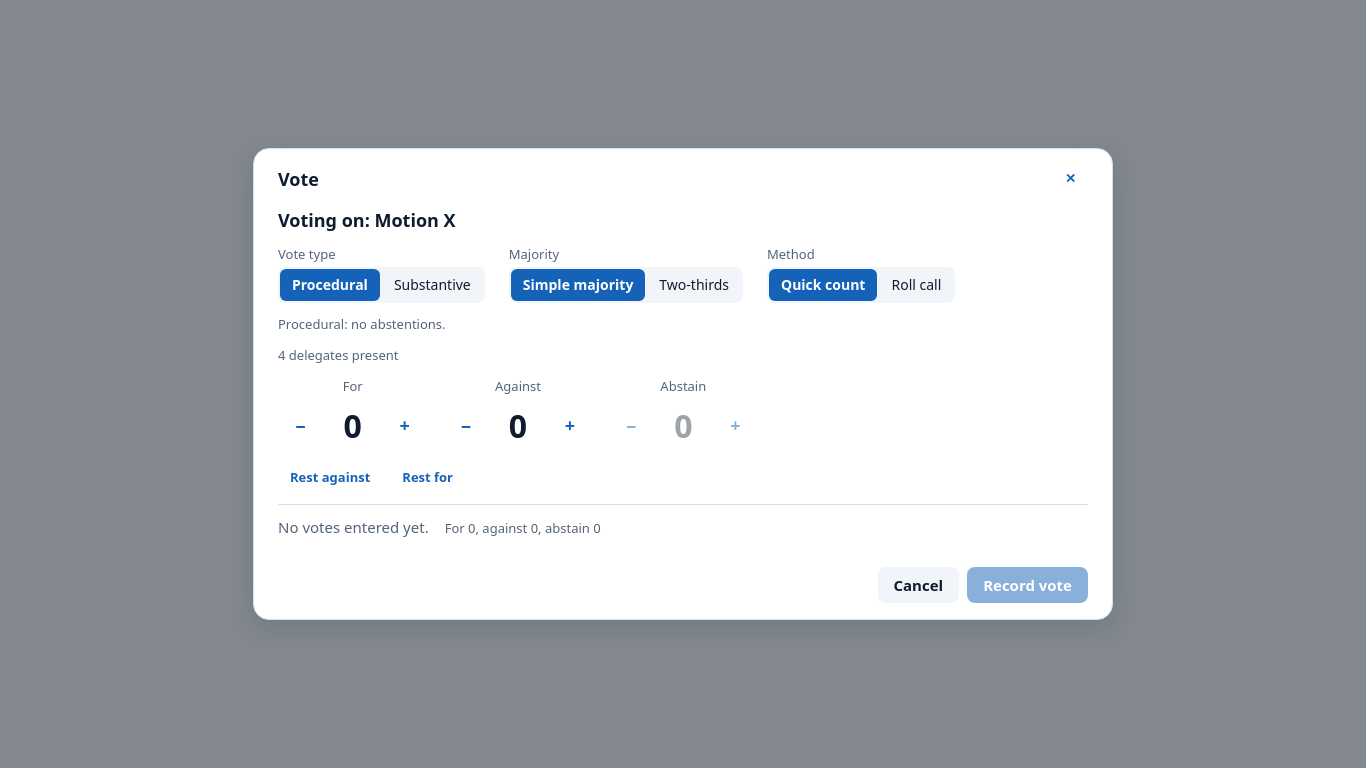
VoteModal › shows validation alert when total exceeds eligible
Replace the text in the number field named "For" with "3". click: (353, 426)
box: [321,400,385,452]
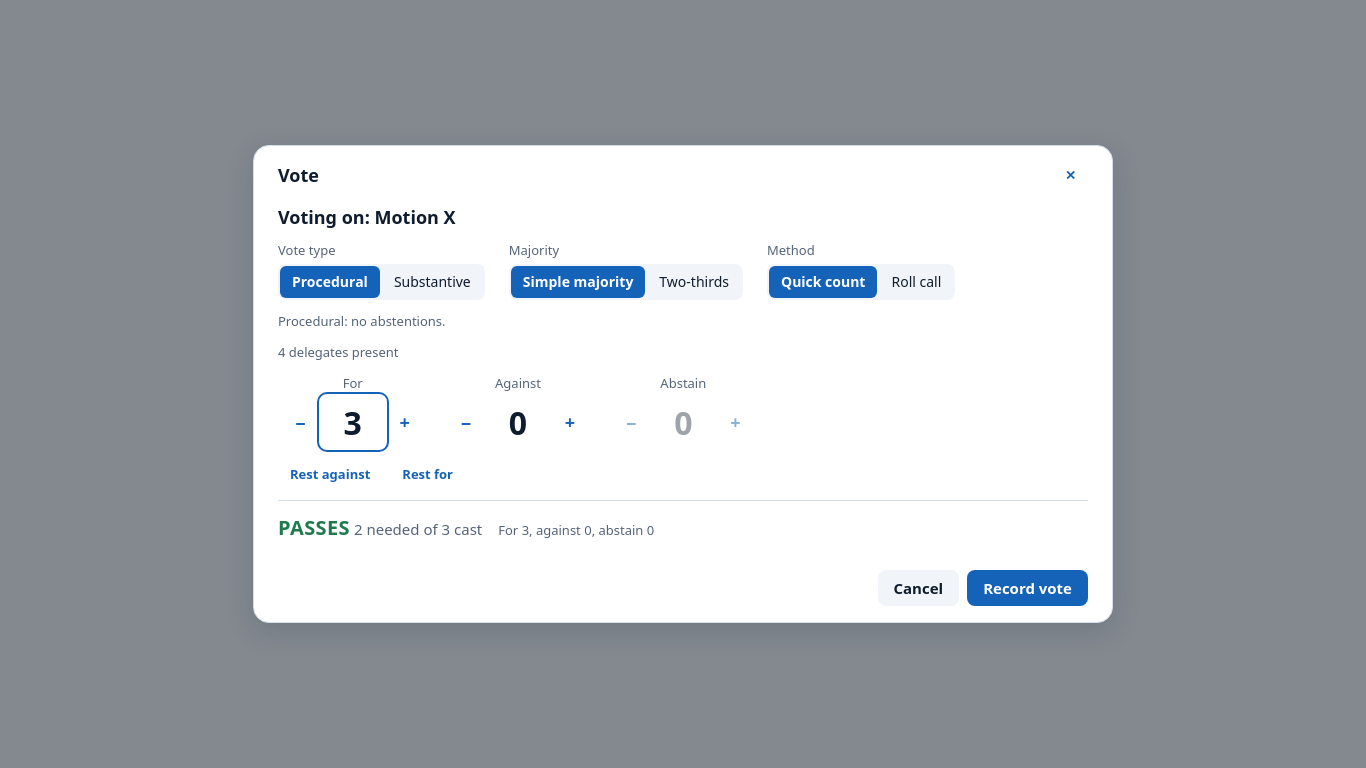
Replace the text in the number field named "Against" with "2". click: (518, 422)
box: [486,396,550,448]
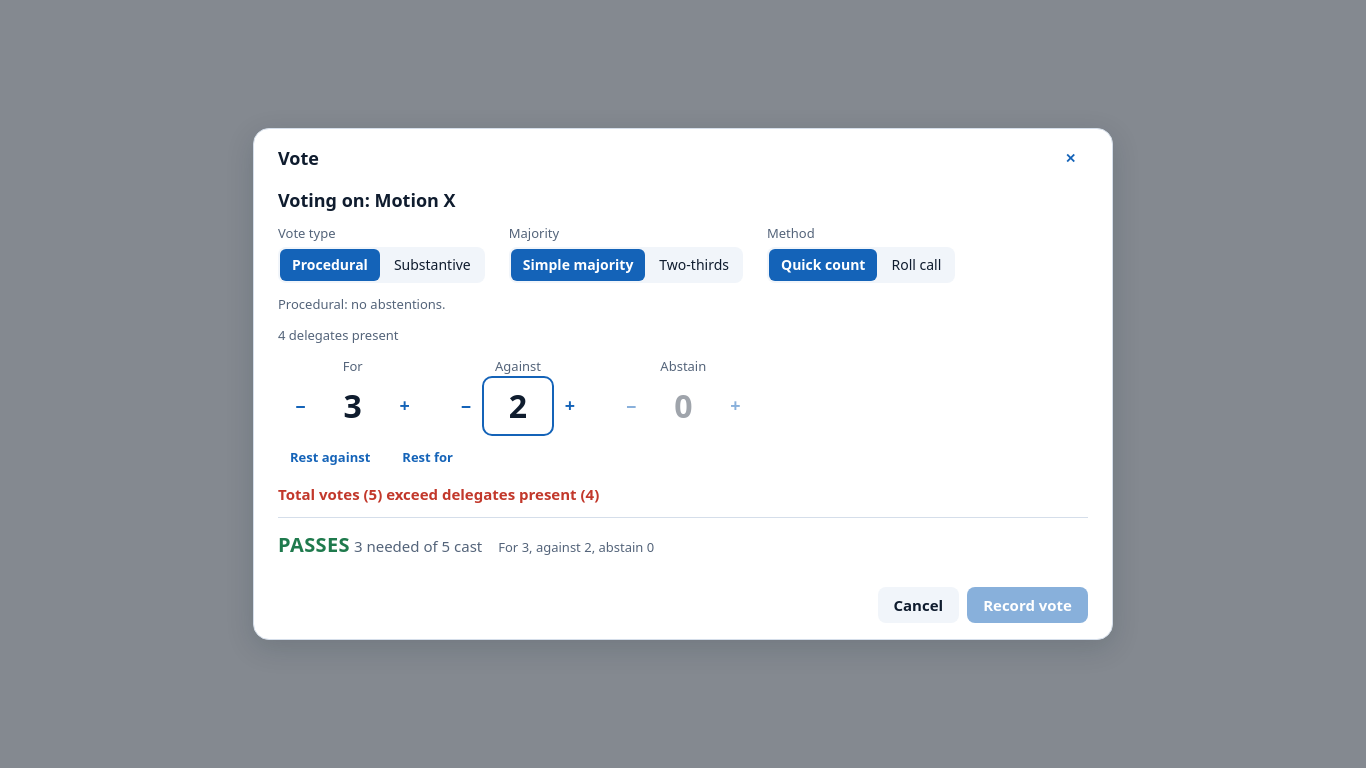
Check: the message "Total votes (5) exceed delegates present (4)" is shown, box [278,484,599,504]
Check: the button "Record vote" is disabled, box [967,587,1088,623]
